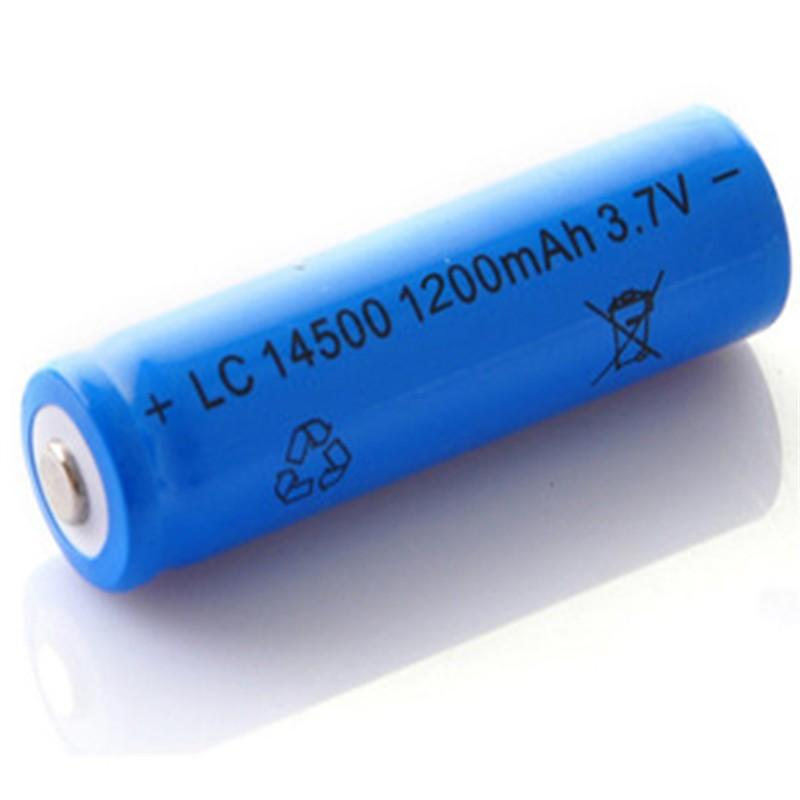Battery: (17, 101, 796, 602)
